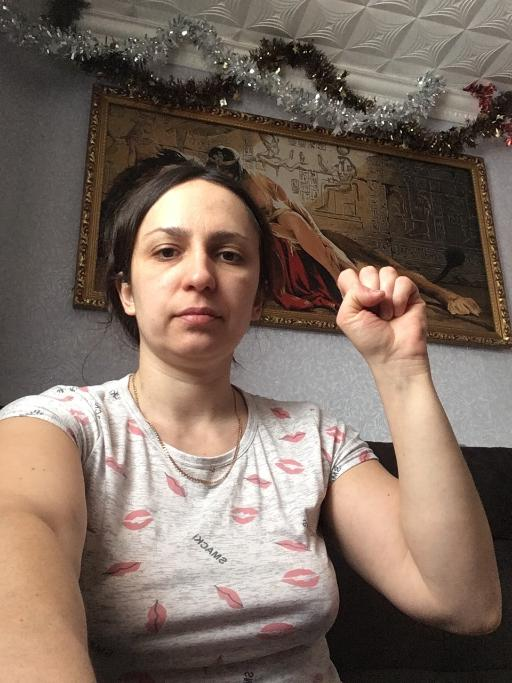fist: (332, 263, 428, 358)
